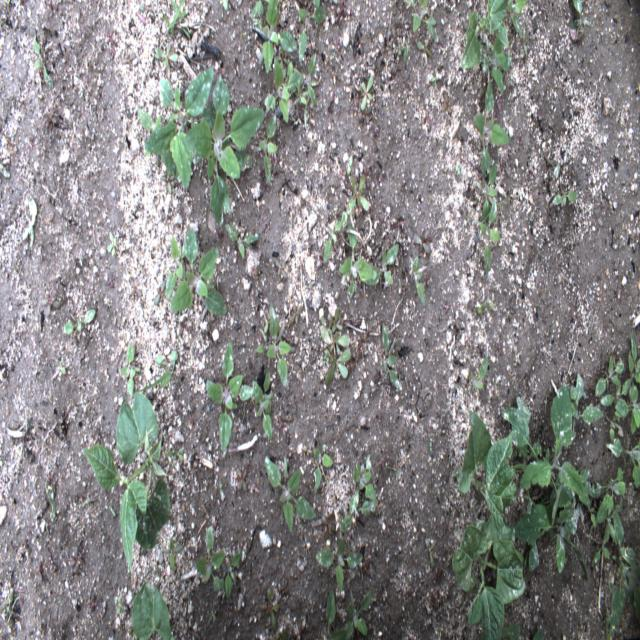crop: (80, 385, 178, 578), (456, 407, 517, 565), (450, 528, 528, 639), (132, 582, 173, 636)
weed: (132, 64, 270, 228), (501, 380, 611, 572), (458, 0, 528, 282), (579, 332, 639, 534), (165, 216, 232, 320), (588, 512, 639, 635), (203, 332, 256, 445), (312, 445, 377, 536), (262, 454, 320, 532), (195, 522, 248, 600), (333, 219, 383, 298), (252, 300, 294, 390), (315, 293, 351, 394), (250, 0, 299, 68), (258, 48, 298, 126), (313, 543, 368, 598), (322, 585, 372, 637), (291, 0, 327, 59), (374, 310, 398, 388), (220, 216, 264, 258), (257, 106, 279, 185), (248, 373, 273, 440), (345, 161, 373, 217), (401, 0, 438, 42), (58, 306, 98, 344), (550, 180, 582, 220), (373, 240, 402, 284), (161, 1, 191, 43), (32, 36, 54, 90), (120, 339, 137, 399), (20, 194, 38, 248), (412, 36, 436, 67), (264, 587, 279, 636), (153, 44, 180, 69), (359, 69, 374, 113), (288, 298, 302, 326)
